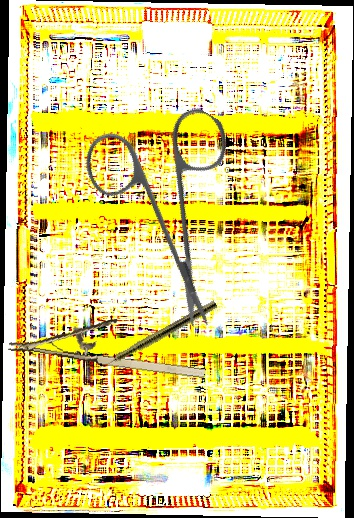Handpiece: (92, 298, 219, 375)
Iris Scissors: (36, 69, 302, 333)
Needle Holder: (7, 301, 212, 385)
